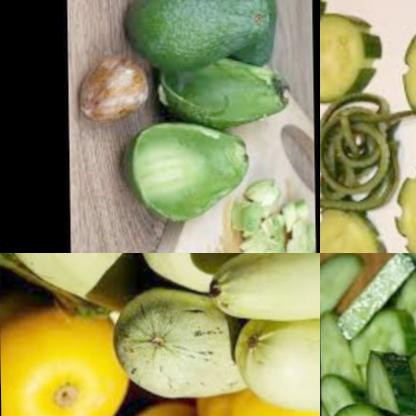avocado: (116, 122, 264, 229), (136, 55, 308, 131), (122, 0, 277, 52), (231, 165, 316, 253), (204, 0, 278, 70)
cucumber: (320, 253, 416, 416), (320, 4, 387, 110), (320, 203, 390, 253), (394, 7, 416, 130), (393, 163, 416, 253)
vegetable marrow: (91, 283, 262, 407), (206, 253, 320, 354), (220, 306, 320, 416), (0, 253, 154, 317), (139, 253, 251, 301)
